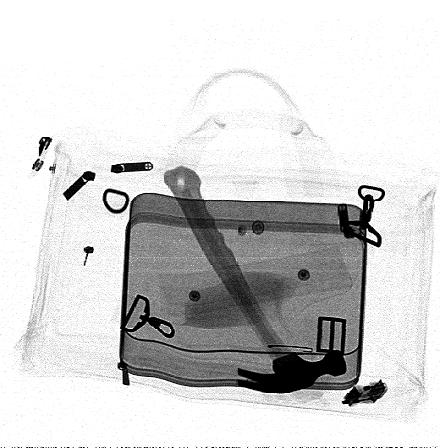Hammer: (163, 165, 348, 393)
